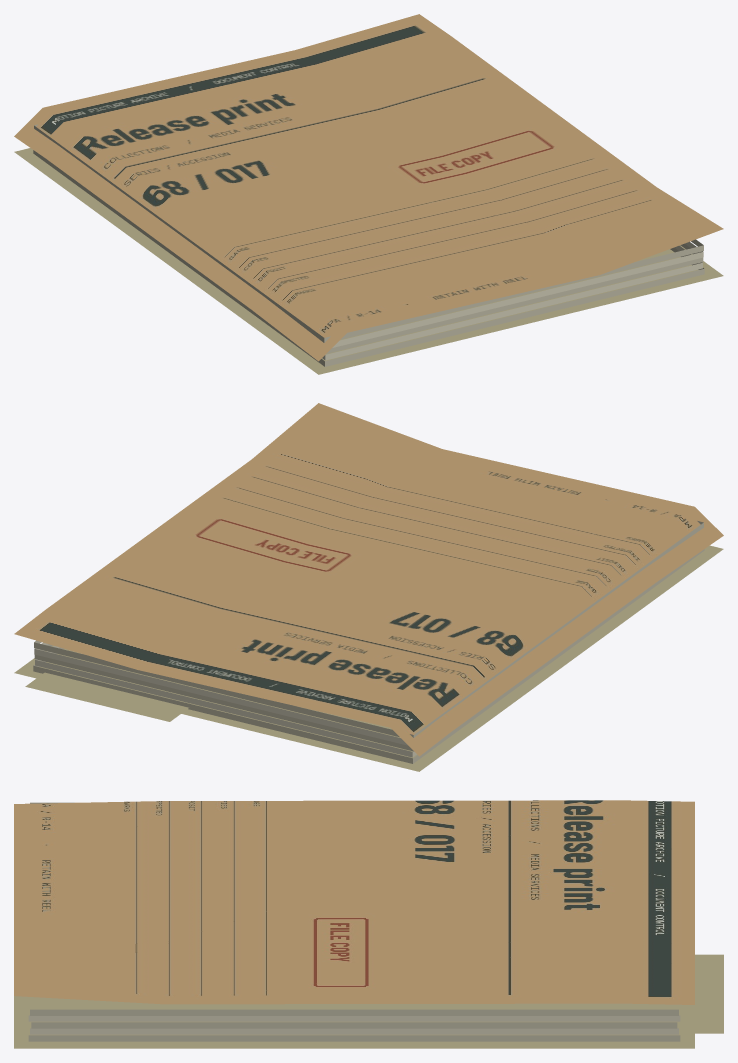
The model's file is release.gltf.
The picture shows the model from 3 angles, top to bottom: view 1: azimuth 30°, elevation 25°; view 2: azimuth 150°, elevation 25°; view 3: azimuth 270°, elevation 25°; orthographic projection. The views are drawn at different scales.
Visible parts, largest first — view 1: release; view 2: release; view 3: release.
Boxes of the visible parts, left/top/right/bottom form: release: left=14, top=14, right=723, bottom=374; release: left=14, top=403, right=723, bottom=771; release: left=14, top=800, right=723, bottom=1048.
Bounding box in the file's own units: 0.252 × 0.0279 × 0.342.
4 materials, 1 textured.
